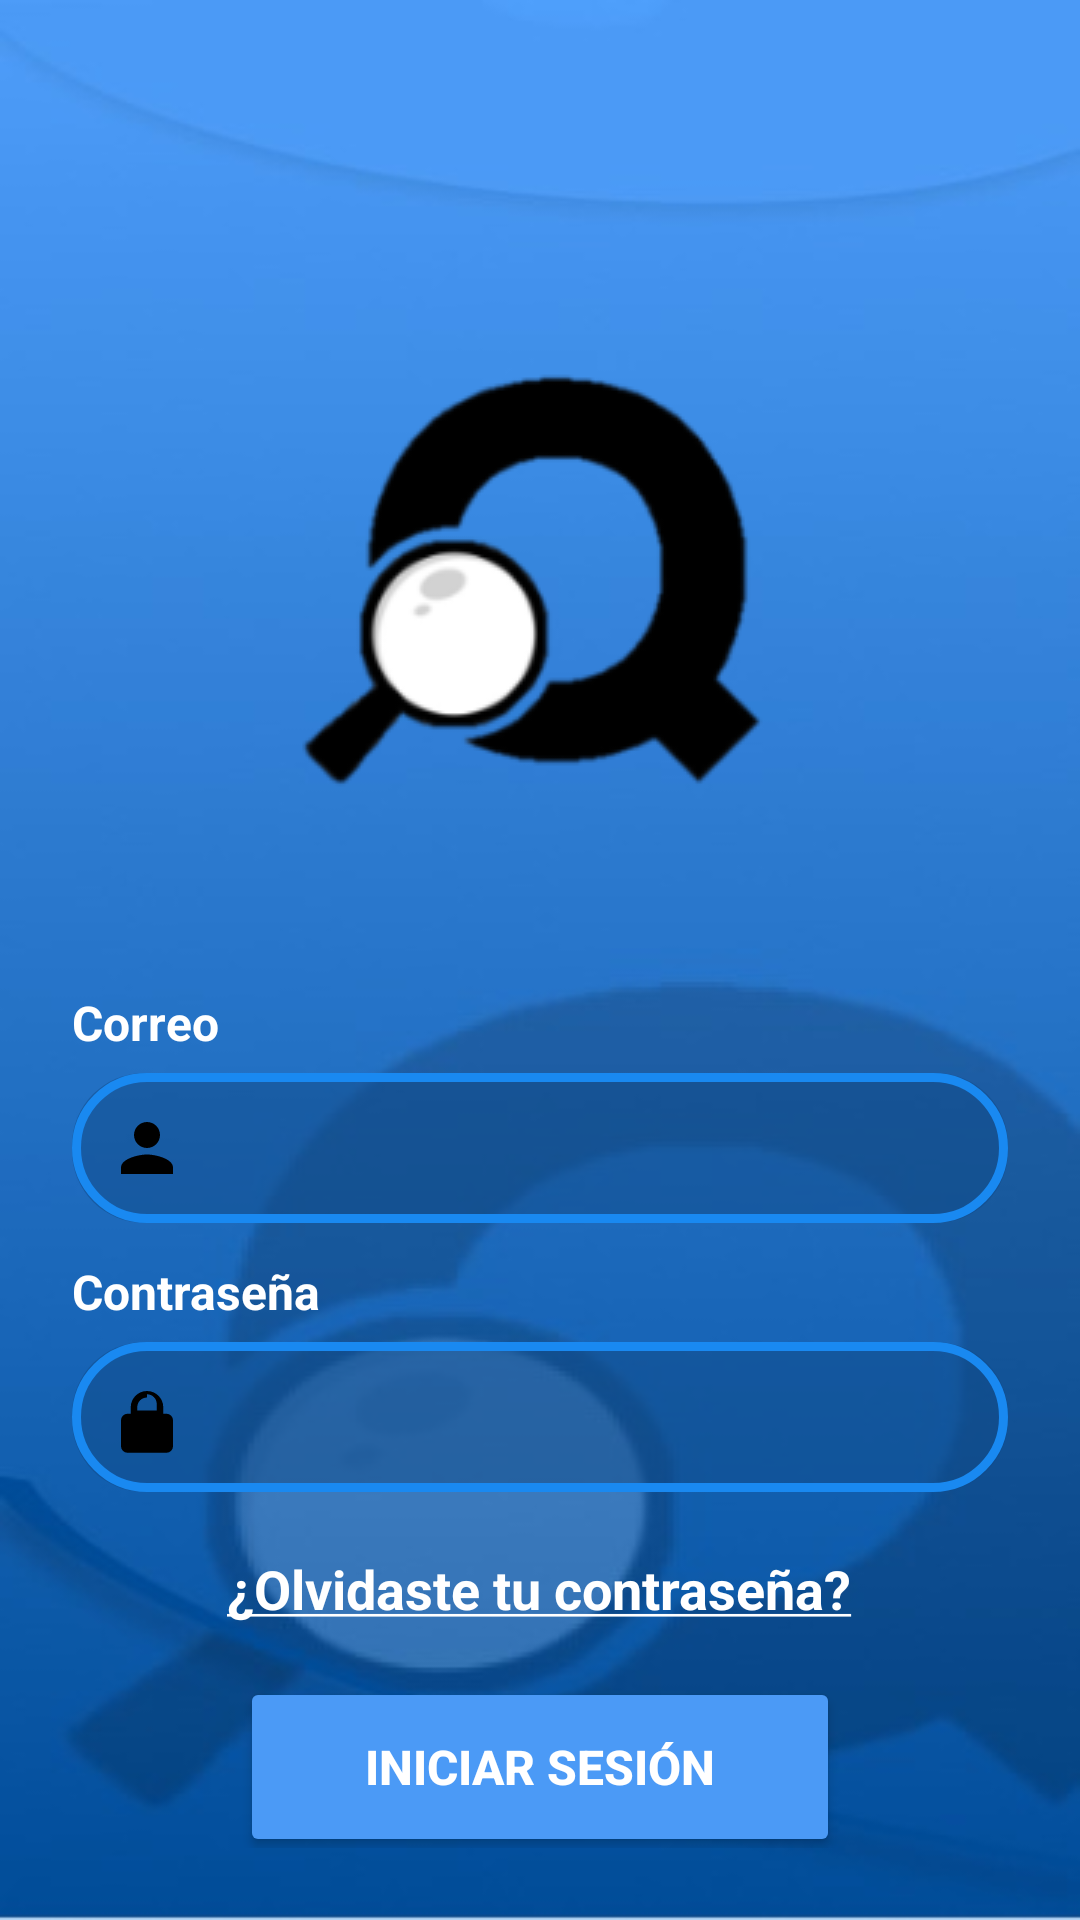

Icons on this 1080w x 1920h Android screen, each with its box as box(x1, y1, x2, y2):
lock: box(121, 1391, 173, 1453)
user: box(121, 1122, 173, 1174)
